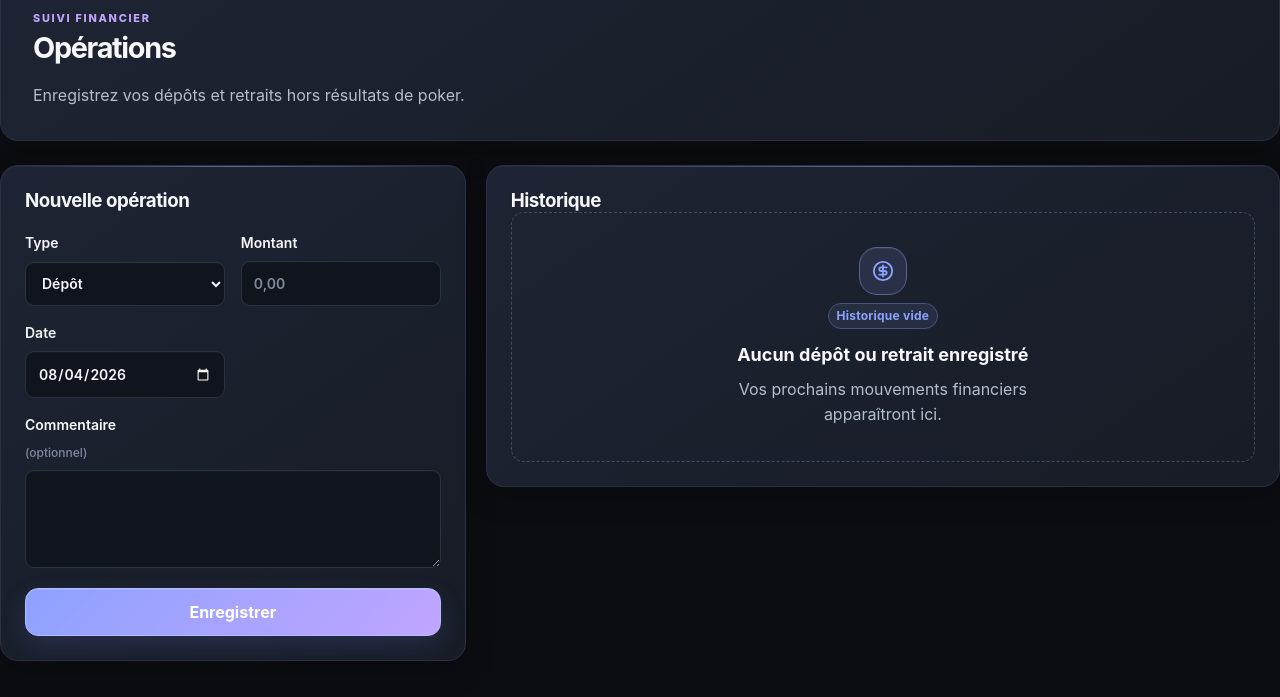
Test case: OperationsPage › rejects the invalid amount
Click the button "Enregistrer" at [233, 612], box [25,588,441,636]
(page scrolled)
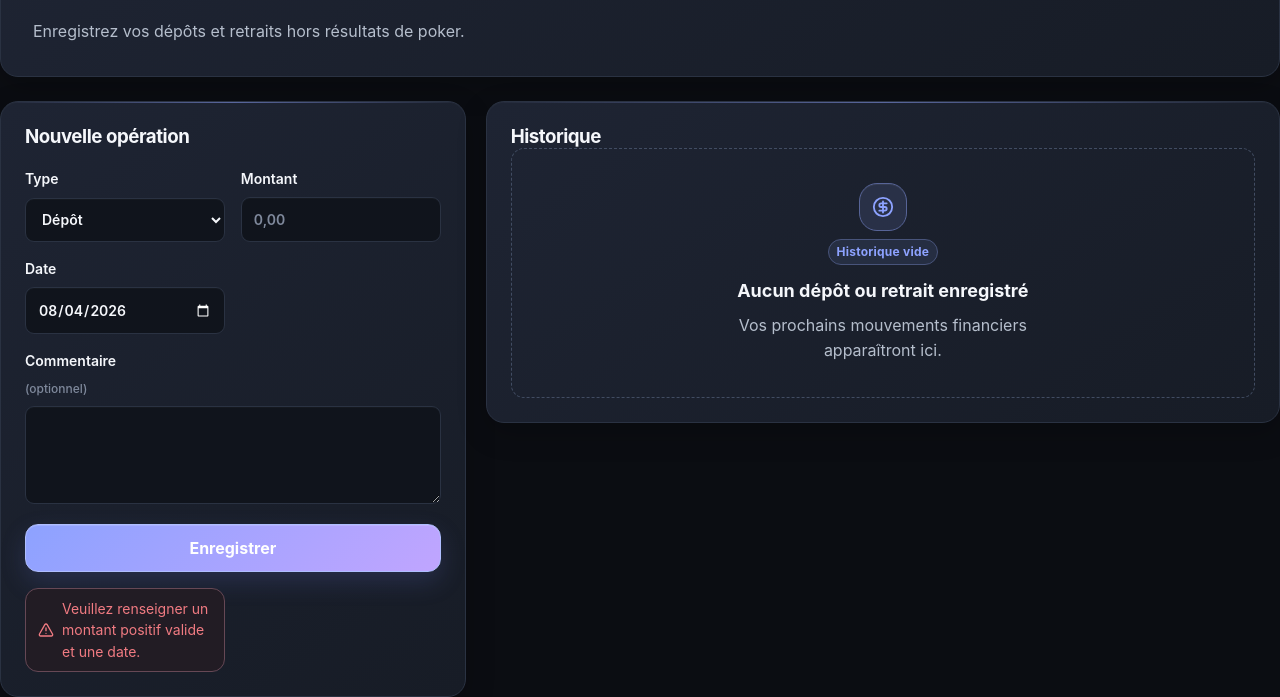
Check: the message reads "Veuillez renseigner un montant positif valide et une date.", box [62,600,208,660]
